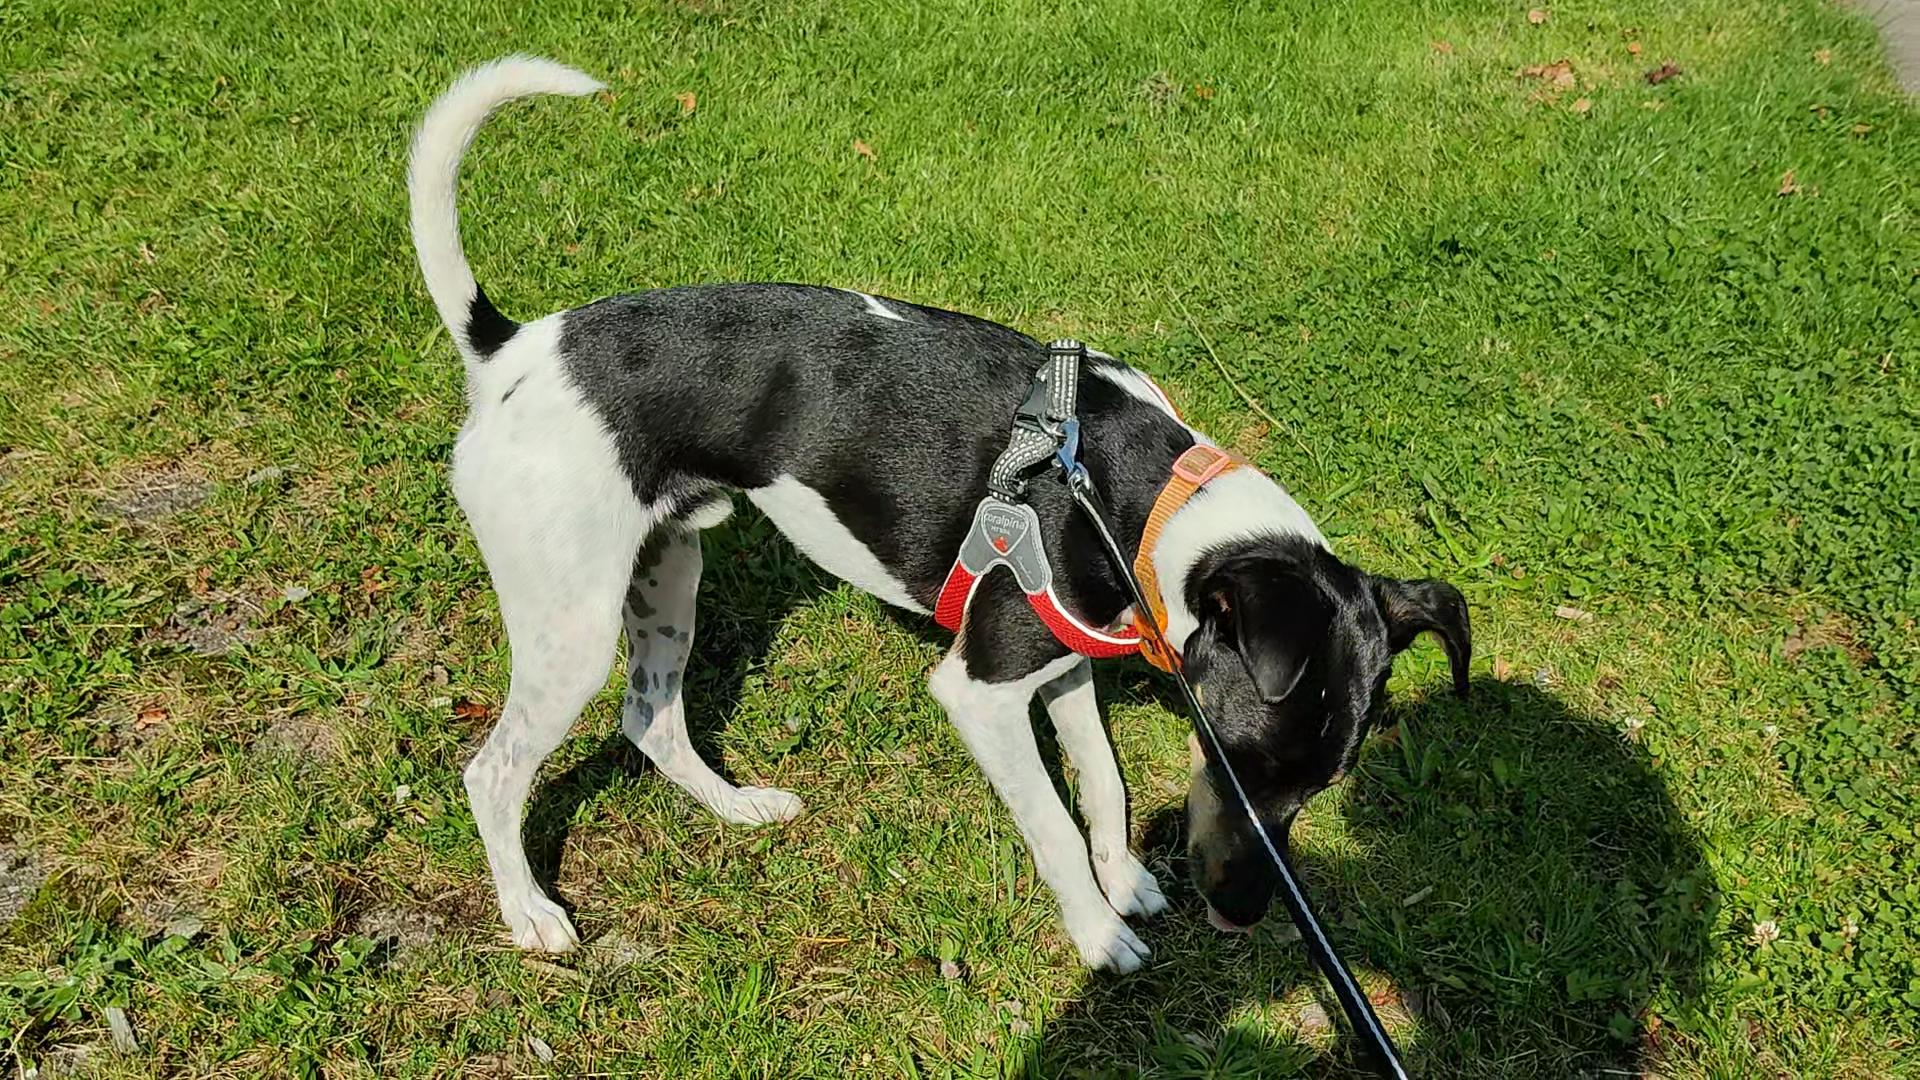Dog: (405, 36, 1481, 980)
